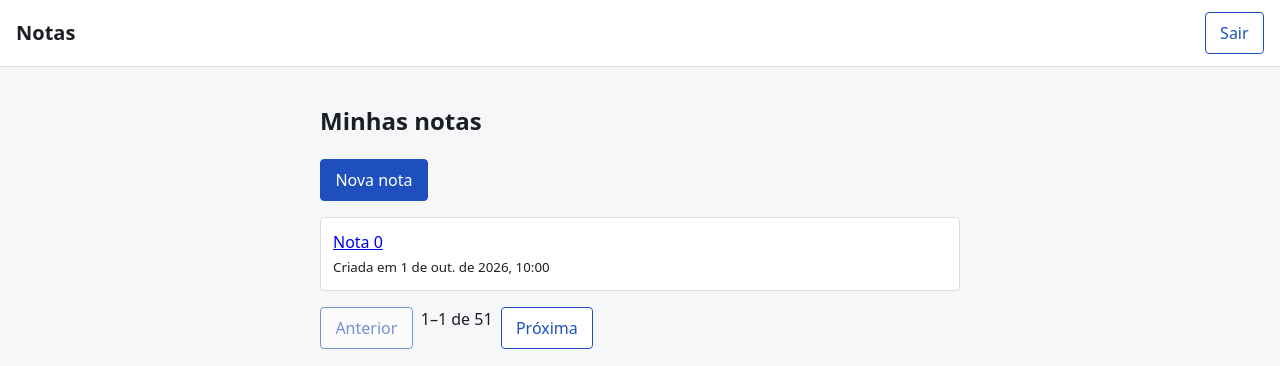
lista de notas › pagina usando total, limit e offset
Expected: the link "Nota 0" is shown, [333,231,383,253]
Expected: the button "Anterior" is disabled, [320,307,413,349]
Click the button "Próxima". click: click(547, 328)
box: [500,307,593,349]
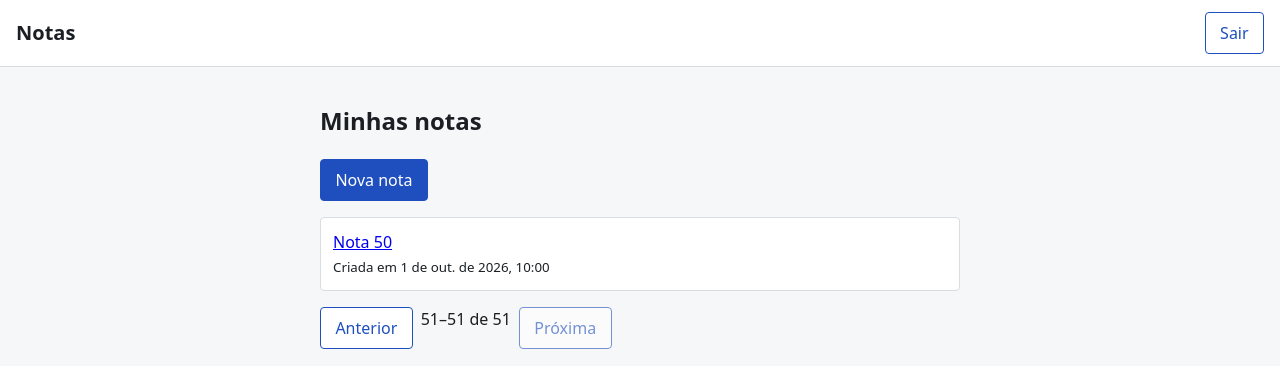
Expected: the link "Nota 50" is shown, [333,231,392,253]
Expected: the button "Próxima" is disabled, [519,307,612,349]
